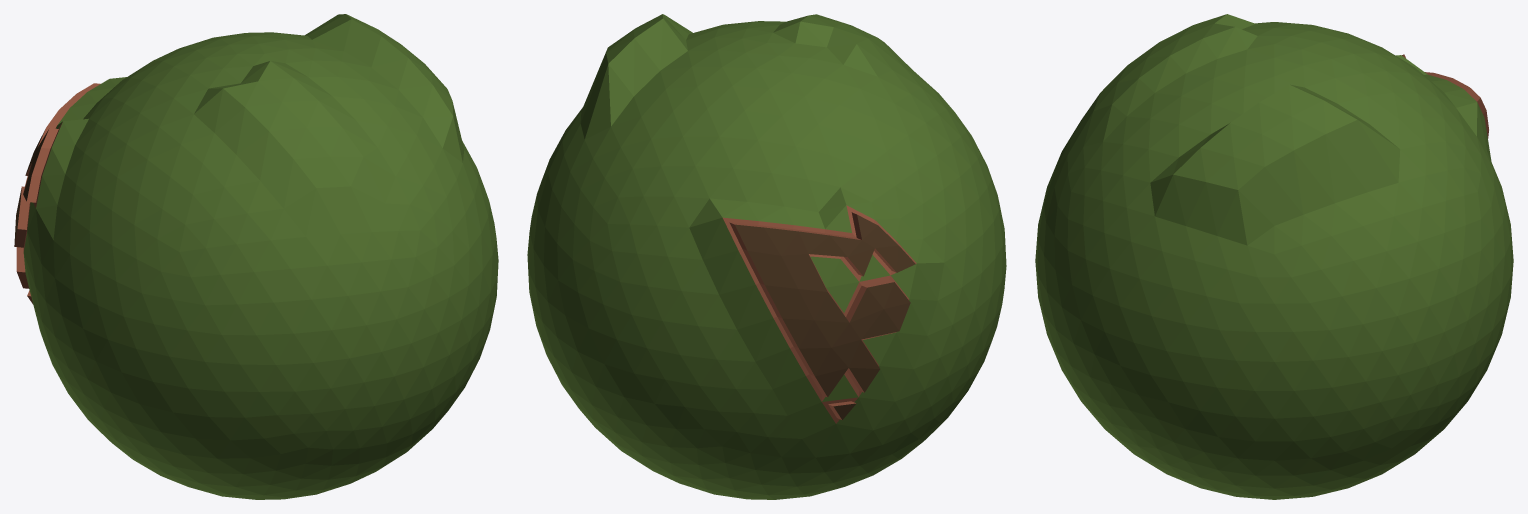
File: Planet.fbx
The picture shows the model from 3 angles, left to right: view 1: azimuth 30°, elevation 25°; view 2: azimuth 150°, elevation 25°; view 3: azimuth 270°, elevation 25°; orthographic projection. The views are drawn at different scales.
Visible parts, largest first — view 1: Planet; view 2: Planet; view 3: Planet.
Boxes of the visible parts, x1,y1,x2,y2 form: Planet: (14,14,498,499); Planet: (527,14,1006,499); Planet: (1035,14,1513,499).
Bounding box in the file's own units: 1200 × 1229 × 1200.
